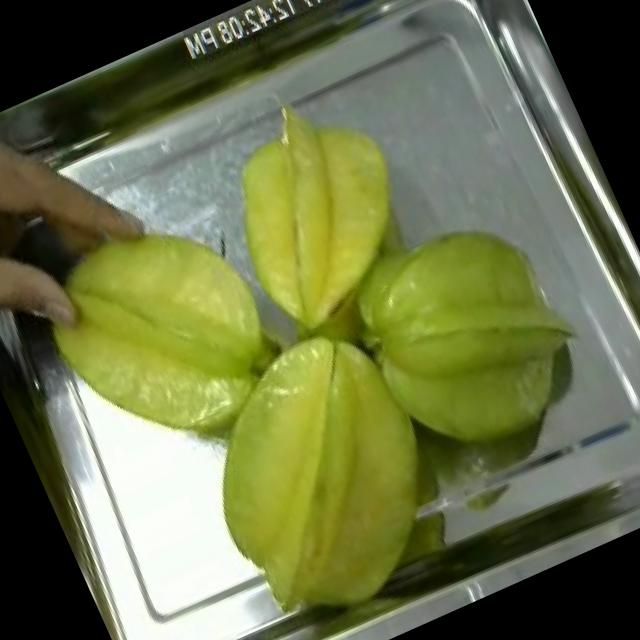fruit: (152, 294, 496, 640), (4, 172, 316, 486), (325, 189, 620, 496), (183, 68, 448, 356)
